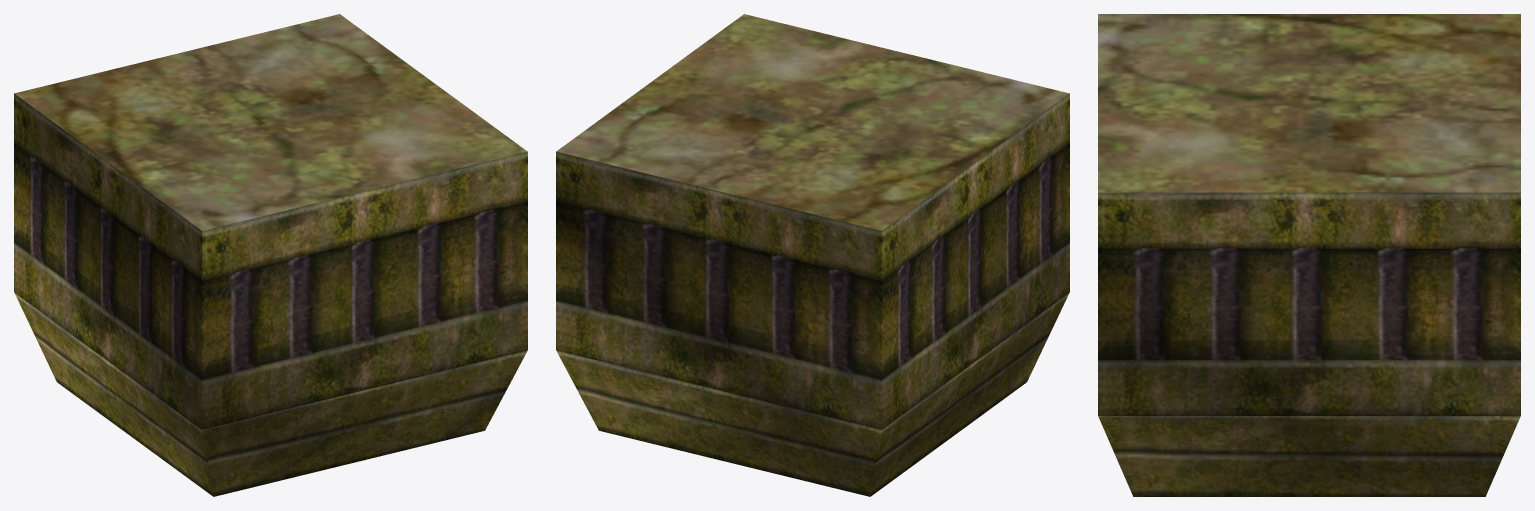
The model's file is OVERHILL_A_01_OBJECT268.fbx.
The picture shows the model from 3 angles, left to right: view 1: azimuth 30°, elevation 25°; view 2: azimuth 150°, elevation 25°; view 3: azimuth 270°, elevation 25°; orthographic projection. The views are drawn at different scales.
Visible parts, largest first — view 1: OVERHILL_A_01_OBJECT268; view 2: OVERHILL_A_01_OBJECT268; view 3: OVERHILL_A_01_OBJECT268.
Part boxes in pixels (x1,y1,x2,y2): OVERHILL_A_01_OBJECT268: (14, 14, 527, 496); OVERHILL_A_01_OBJECT268: (556, 14, 1069, 496); OVERHILL_A_01_OBJECT268: (1098, 14, 1520, 496).
Bounding box in the file's own units: 18045 × 15038 × 18045.
Materials: 3 (3 with a texture image).
